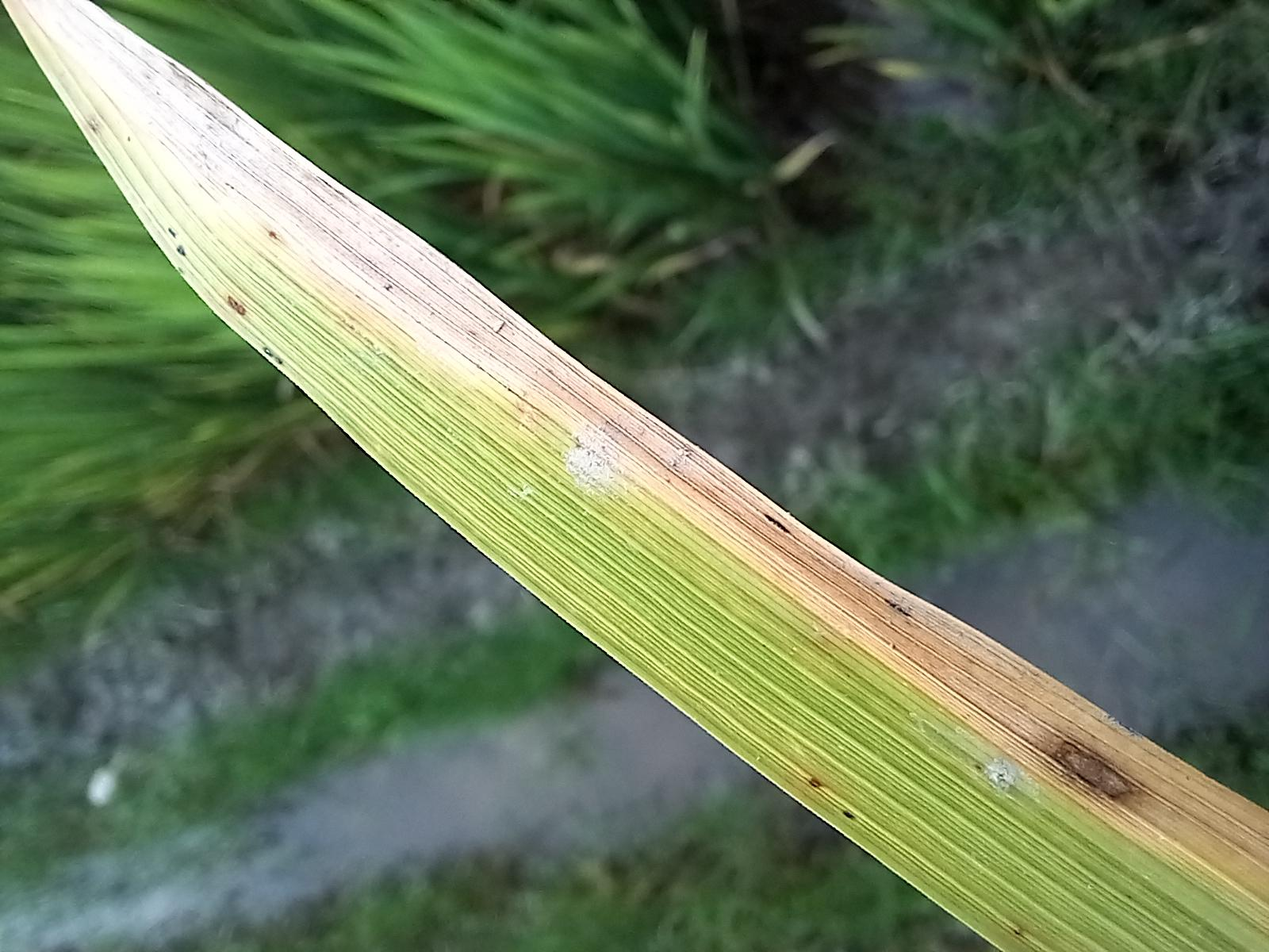LEAF BLAST: (205, 788, 280, 850)
